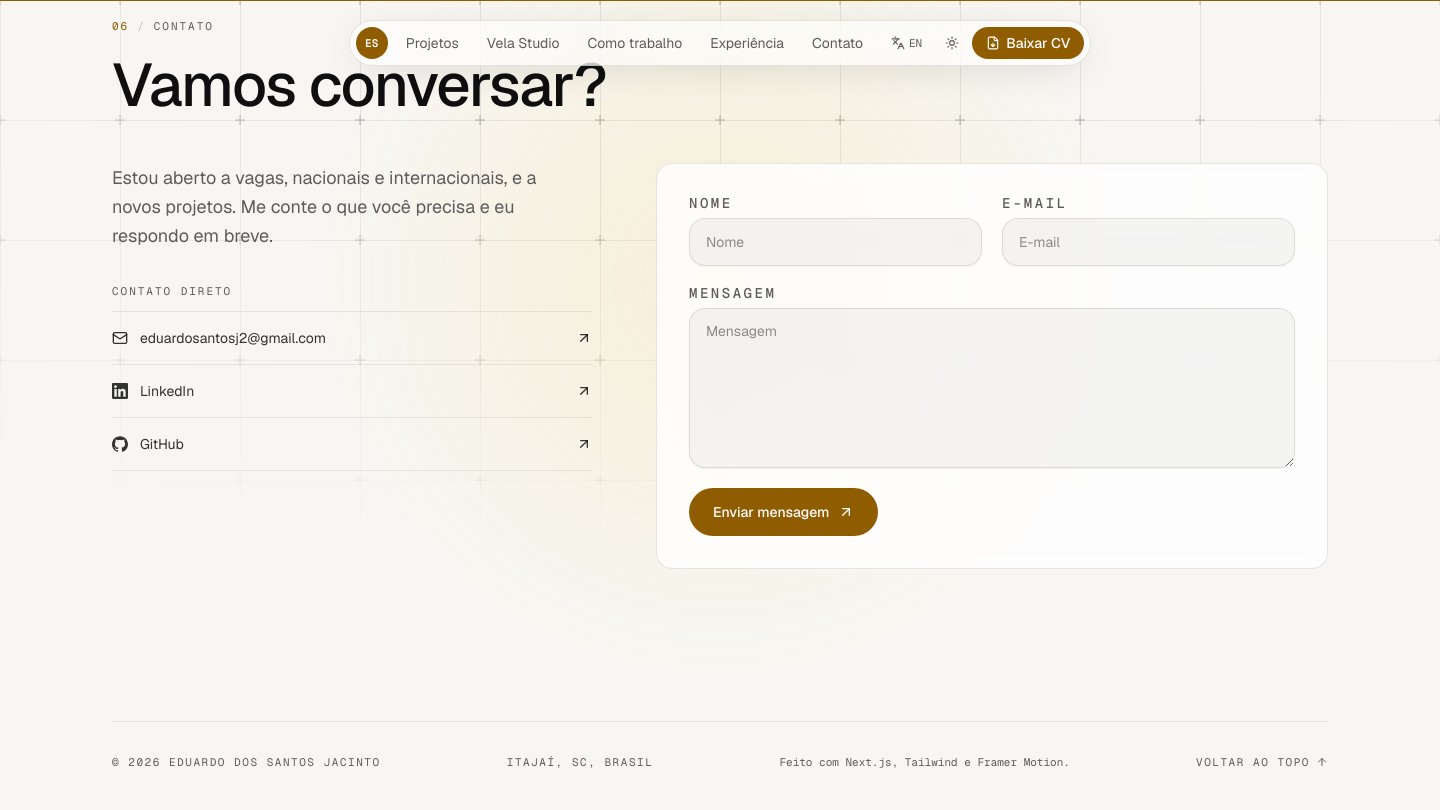
Test: Portfolio Page › Contact form › validates required fields
(page scrolled)
Click the button "Enviar mensagem": (783, 512) [689,488,878,536]
(page scrolled)
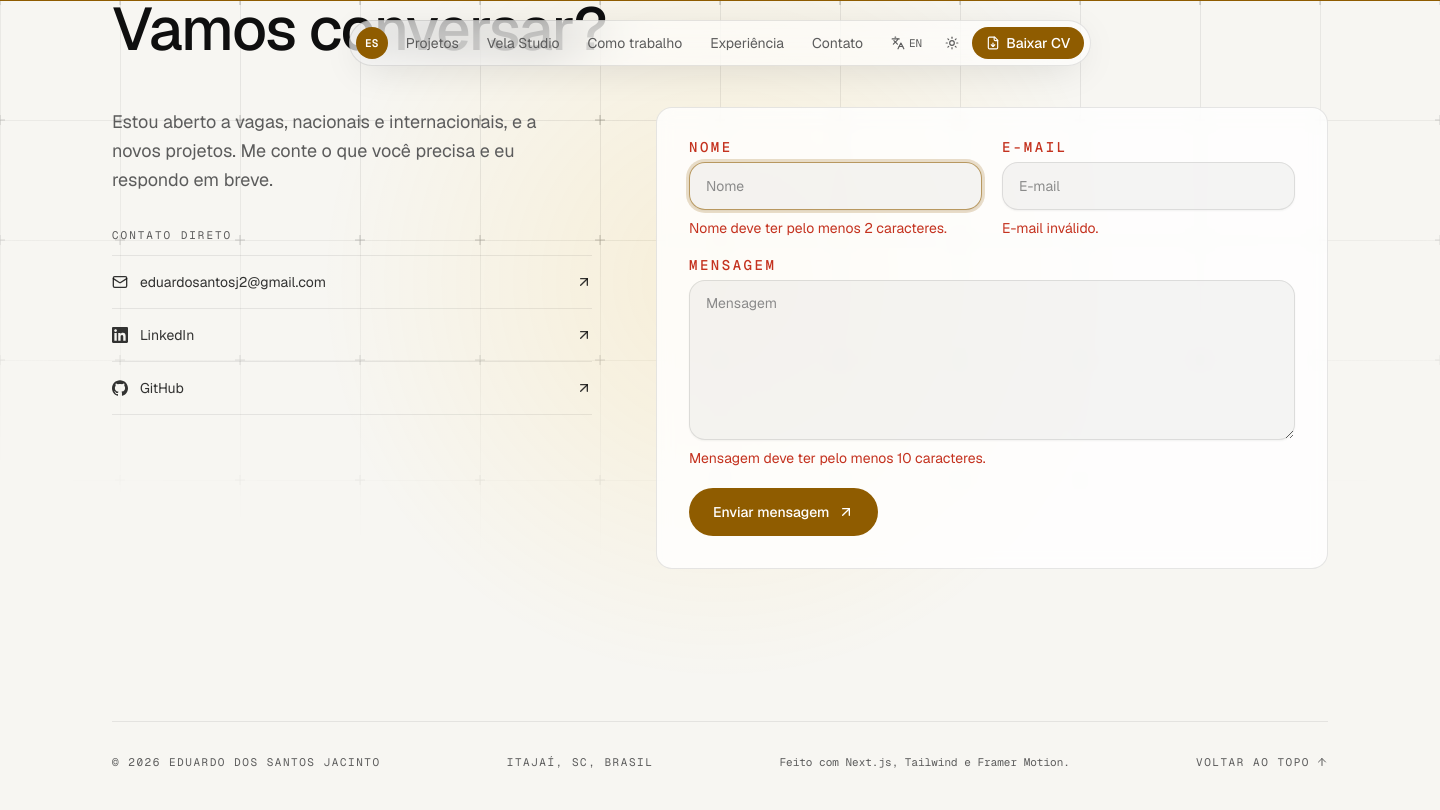
Result: the text "Nome deve ter pelo menos 2 caracteres." is shown at [689,218,982,238]
Result: the text "E-mail inválido." is shown at [1002,219,1098,237]
Result: the text "Mensagem deve ter pelo menos 10 caracteres." is shown at [689,449,986,467]
